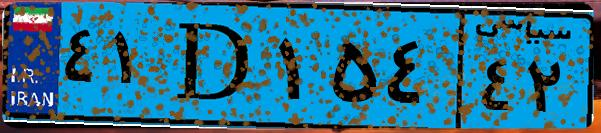1: (270, 28, 330, 110), (110, 28, 158, 98)
2: (525, 38, 570, 115)
4: (385, 28, 445, 110), (57, 26, 110, 100), (475, 38, 525, 113)
5: (330, 28, 385, 110)
D: (158, 12, 270, 120)
